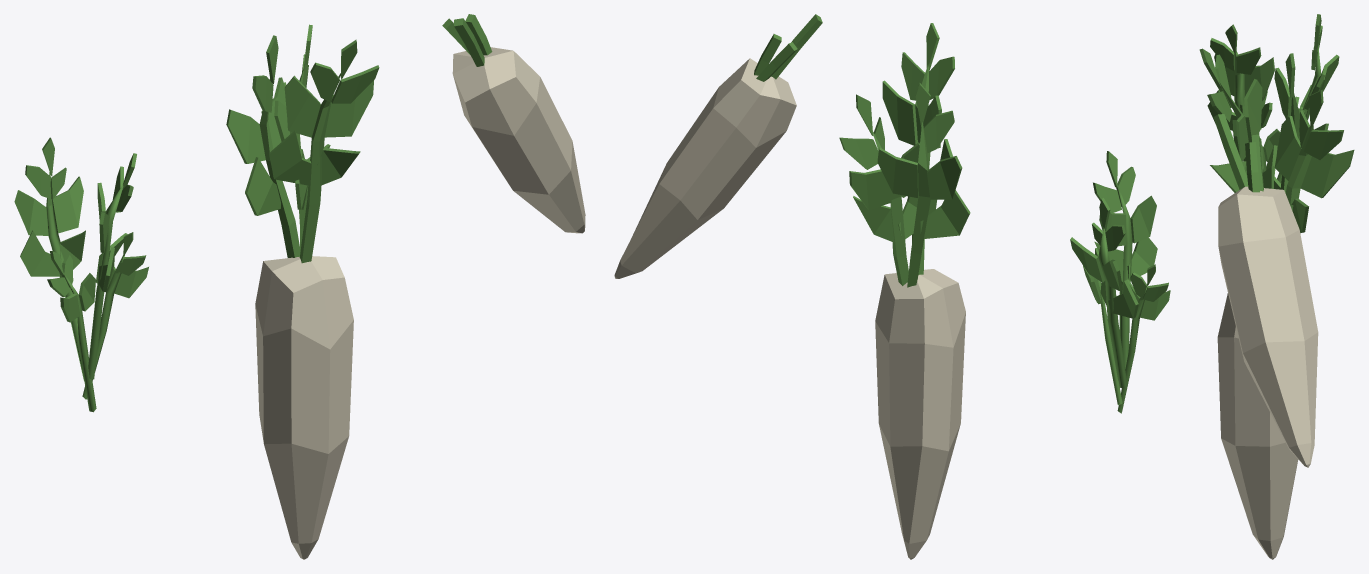
Rendered from Daikon.fbx.
3 views of the same model, side by side, from view 1: azimuth 30°, elevation 25°; view 2: azimuth 150°, elevation 25°; view 3: azimuth 270°, elevation 25° (orthographic). The views are drawn at different scales.
Parts seen in each view (by area): view 1: Daikon_Plant, Daikon_Crop, Daikon_Sprout; view 2: Daikon_Plant, Daikon_Crop, Daikon_Sprout; view 3: Daikon_Plant, Daikon_Crop, Daikon_Sprout.
Boxes of the visible parts, bbox=[...] form: Daikon_Plant: bbox=[226, 24, 379, 559]; Daikon_Crop: bbox=[442, 14, 585, 233]; Daikon_Sprout: bbox=[14, 137, 148, 412]; Daikon_Plant: bbox=[839, 23, 970, 559]; Daikon_Crop: bbox=[614, 14, 822, 278]; Daikon_Sprout: bbox=[1070, 151, 1170, 413]; Daikon_Plant: bbox=[1199, 48, 1354, 559]; Daikon_Crop: bbox=[1213, 114, 1318, 467]; Daikon_Sprout: bbox=[1207, 14, 1339, 183].
Size of the model in its own units: 1.93 by 1.77 by 0.4809.
